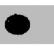correct: (2, 14, 33, 36)
